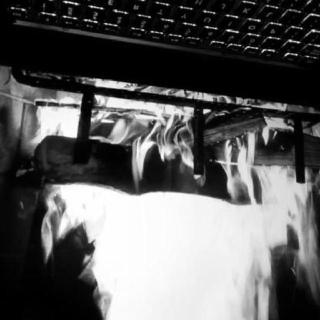Fire: (14, 92, 314, 316)
